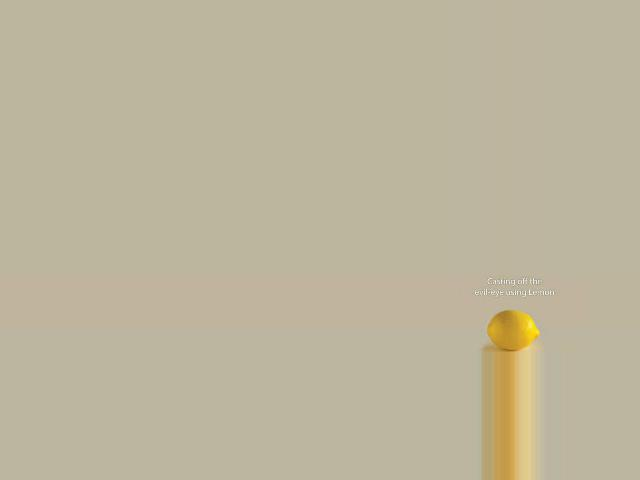lemon: (485, 307, 539, 348)
